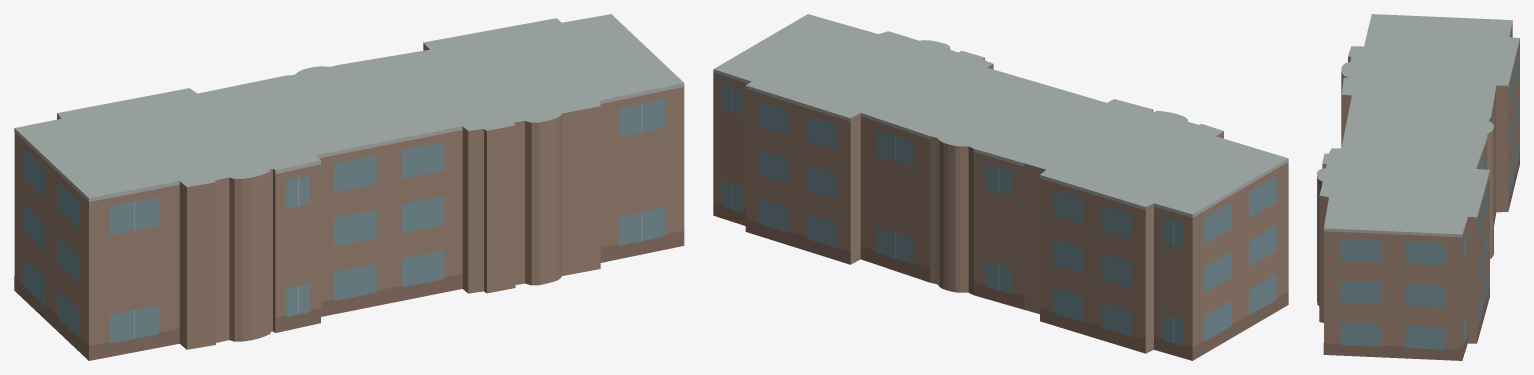
Rendered from survey-upis-33007851.glb.
3 views of the same model, side by side, from view 1: azimuth 30°, elevation 25°; view 2: azimuth 150°, elevation 25°; view 3: azimuth 270°, elevation 25° (orthographic). The views are drawn at different scales.
Parts seen in each view (by area): view 1: survey-upis-33007851.tmp; view 2: survey-upis-33007851.tmp; view 3: survey-upis-33007851.tmp.
Part boxes in pixels (x1,y1,x2,y2): survey-upis-33007851.tmp: (14, 14, 684, 360); survey-upis-33007851.tmp: (713, 14, 1288, 360); survey-upis-33007851.tmp: (1317, 14, 1519, 360).
Bounding box in the file's own units: 39.42 × 10.55 × 15.34.
